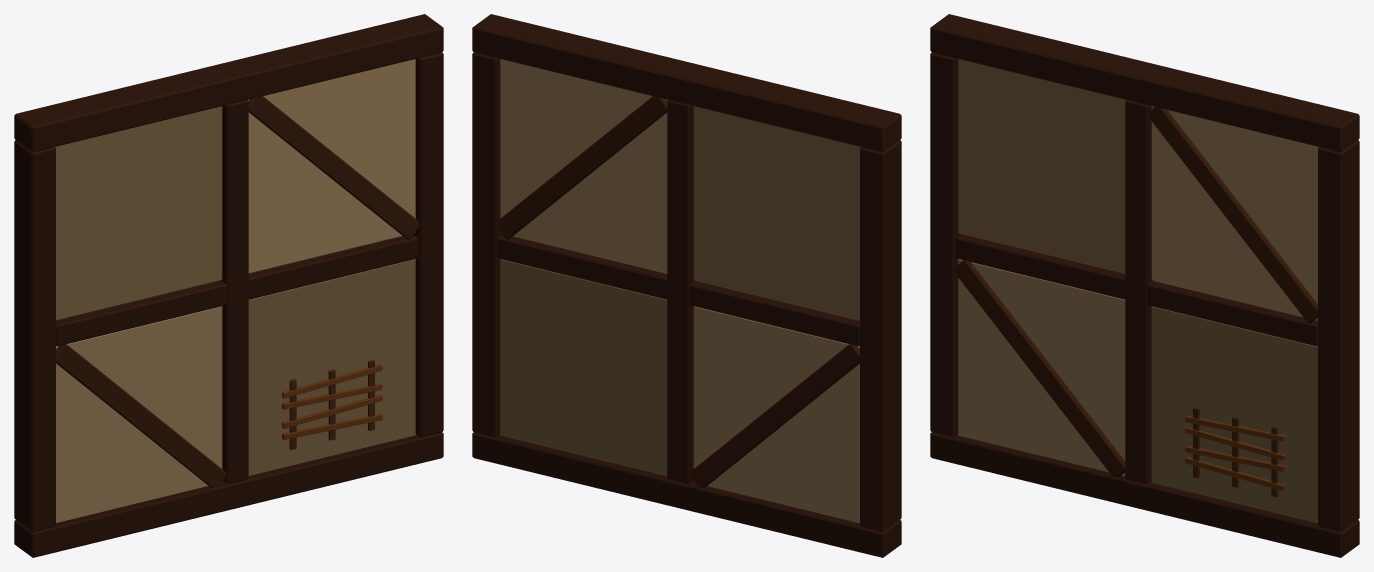
File: mod_wattle_daub_panel_2x2m.glb
3 renders of one model, left to right at view 1: azimuth 30°, elevation 25°; view 2: azimuth 150°, elevation 25°; view 3: azimuth 330°, elevation 25°, orthographic.
Visible parts, largest first — view 1: Mod_Wattle_Daub_Panel_2x2m; view 2: Mod_Wattle_Daub_Panel_2x2m; view 3: Mod_Wattle_Daub_Panel_2x2m.
Part boxes in pixels (bbox=[...]): Mod_Wattle_Daub_Panel_2x2m: bbox=[14, 14, 443, 557]; Mod_Wattle_Daub_Panel_2x2m: bbox=[472, 14, 901, 557]; Mod_Wattle_Daub_Panel_2x2m: bbox=[930, 14, 1359, 557].
Size of the model in its own units: 2 by 2 by 0.16.
